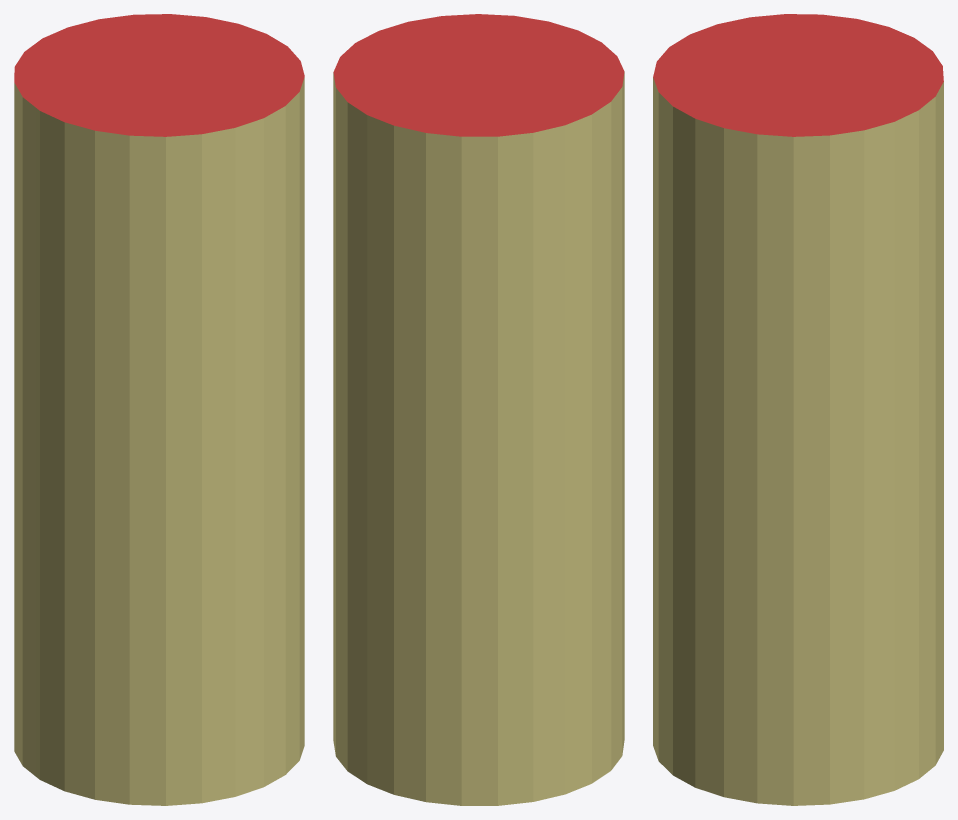
The picture shows the model from 3 angles, left to right: view 1: azimuth 30°, elevation 25°; view 2: azimuth 150°, elevation 25°; view 3: azimuth 270°, elevation 25°; orthographic projection.
Size of the model in its own units: 3.65 by 3.65 by 9.27.
